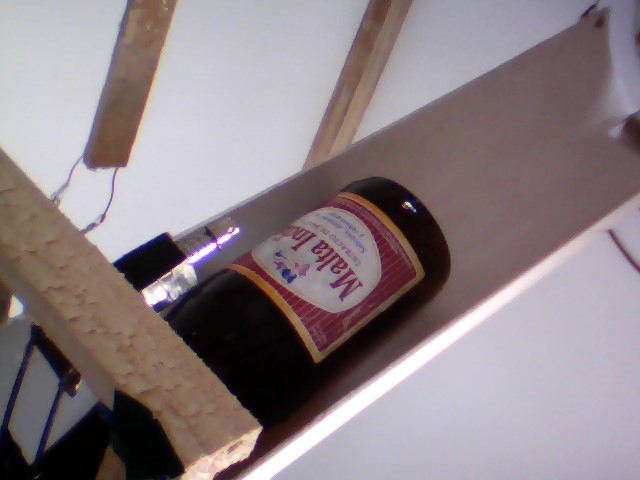vidrio: (177, 174, 461, 424)
